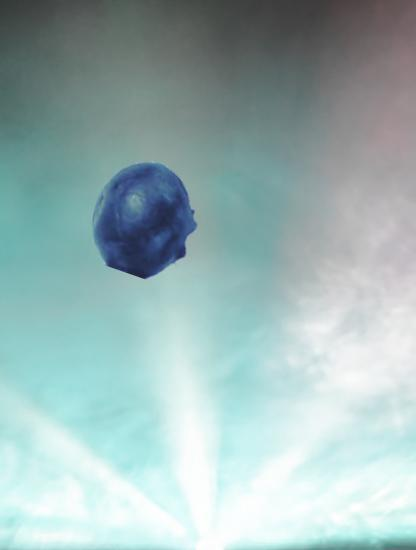Huckleberry: (88, 162, 203, 277)
